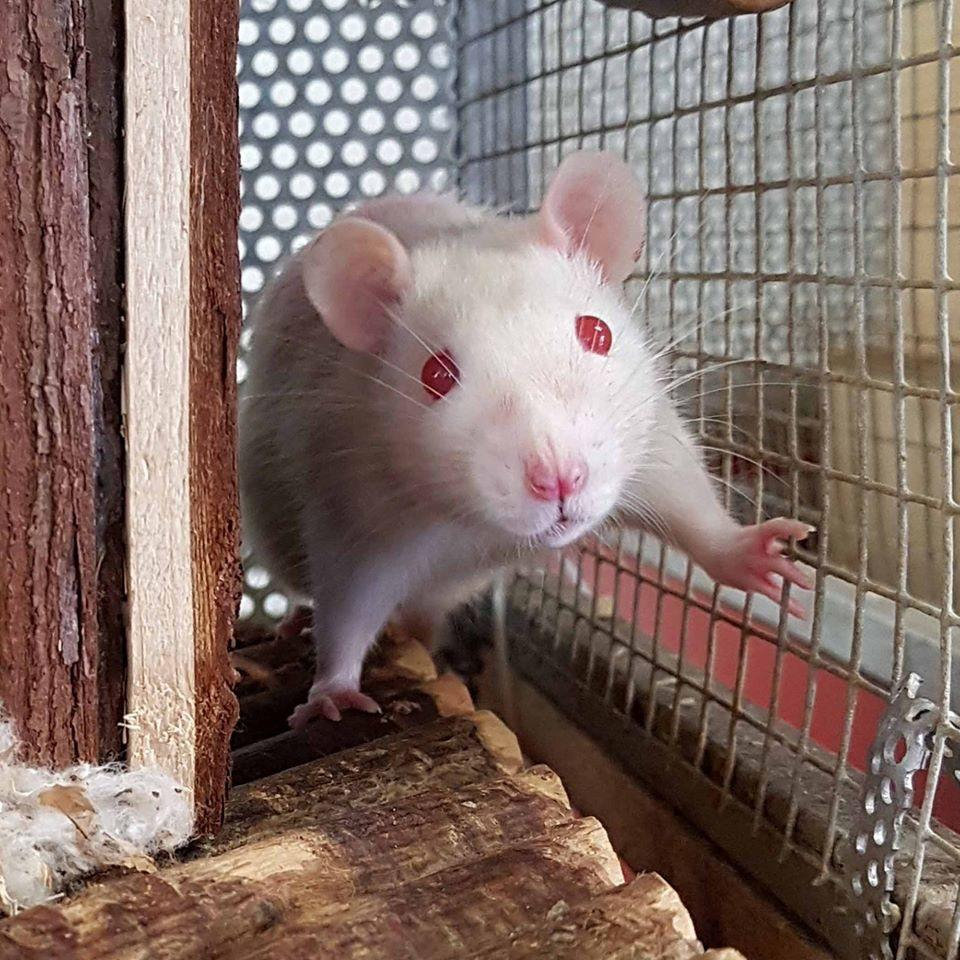rat: (216, 138, 825, 727)
